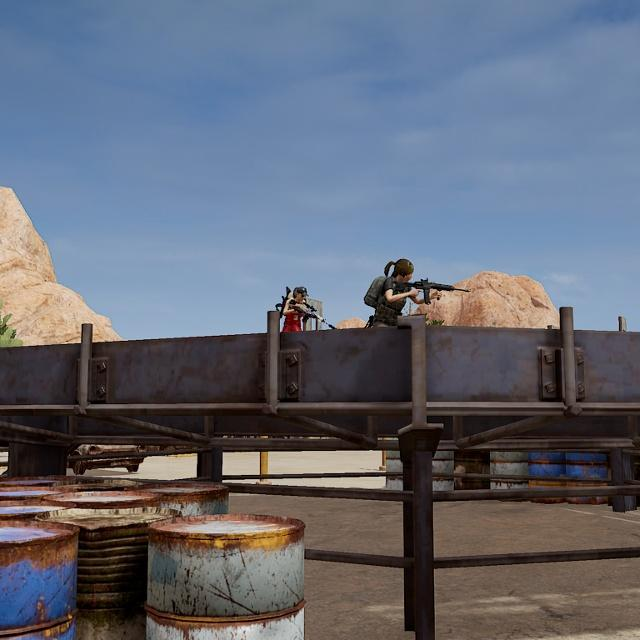head: (392, 257, 415, 283), (293, 286, 308, 303)
people: (364, 257, 421, 330), (281, 286, 310, 332)
